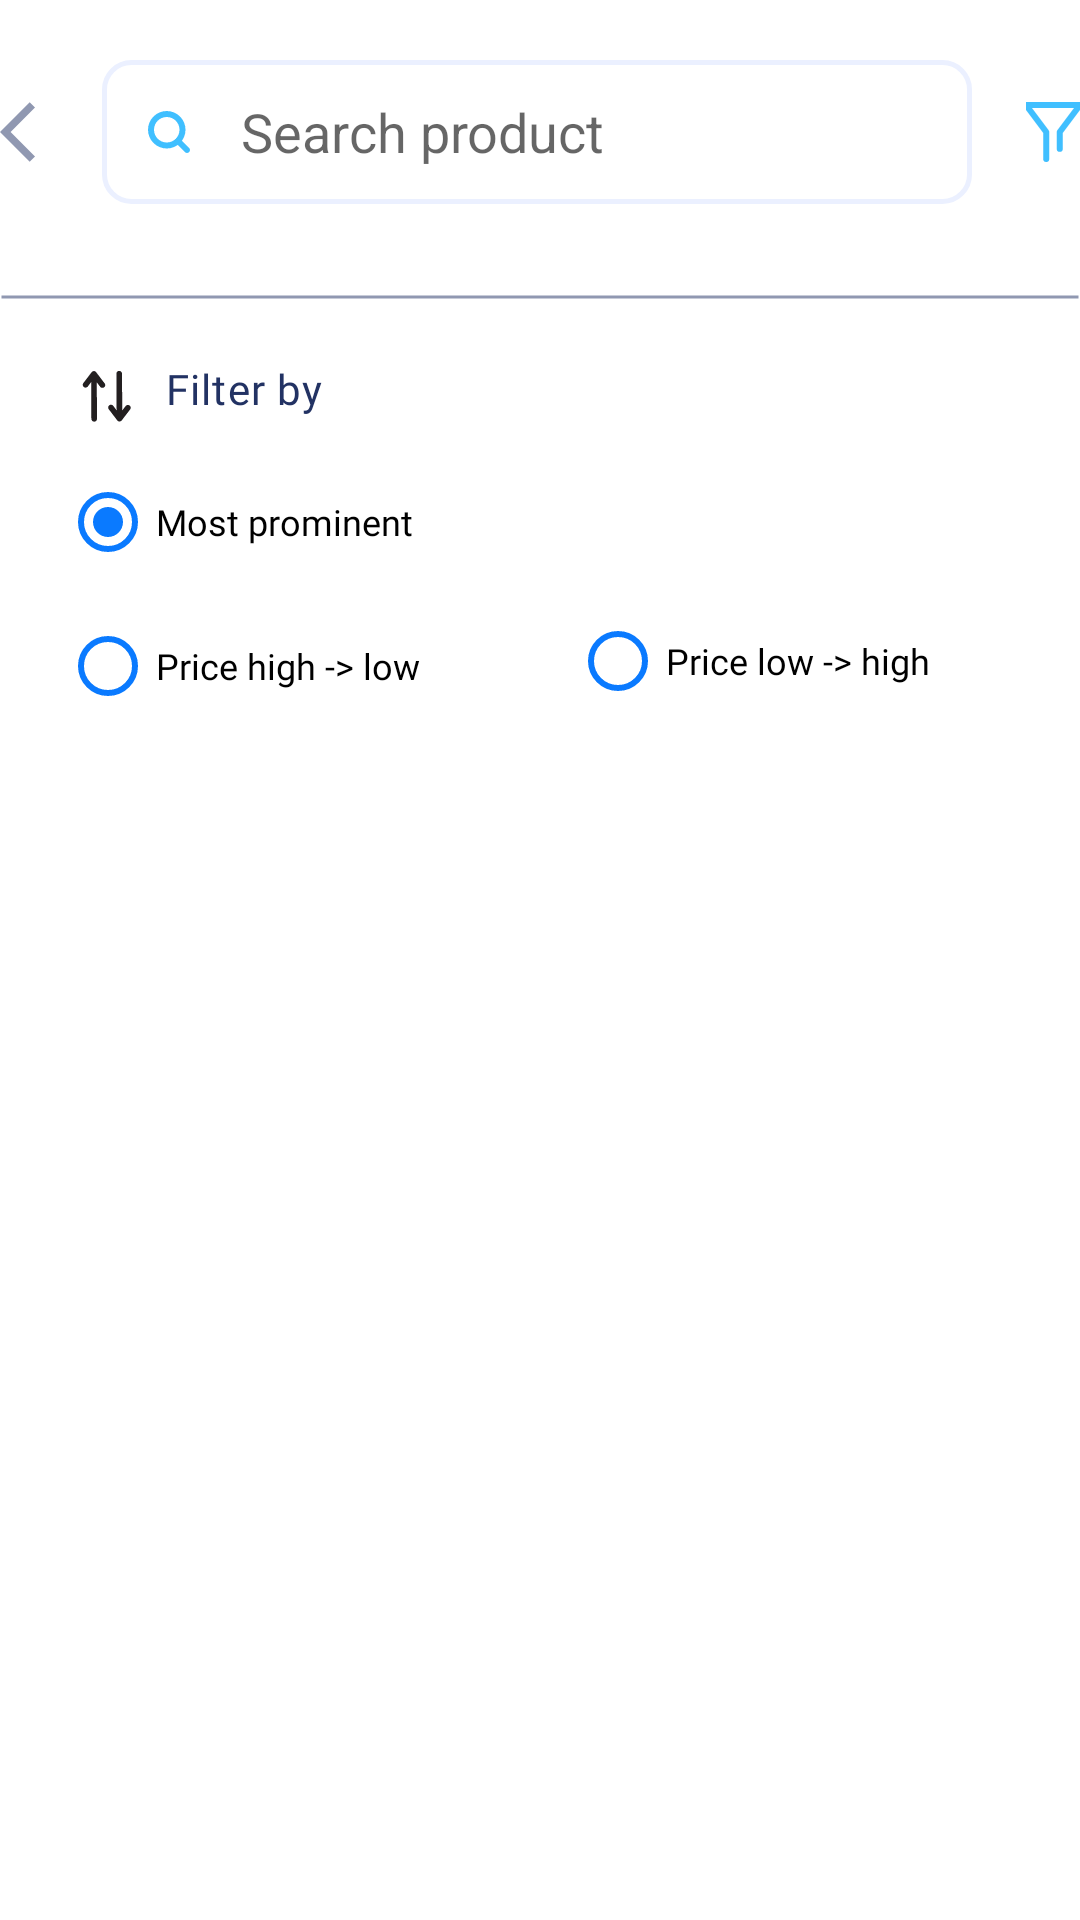

Screen size 1080px x 1920px. Icon name, then its box in pixels as (x1, y1, x2, y2):
back: (0, 102, 35, 162)
filter: (1026, 102, 1080, 162)
sort: (82, 371, 131, 422)
